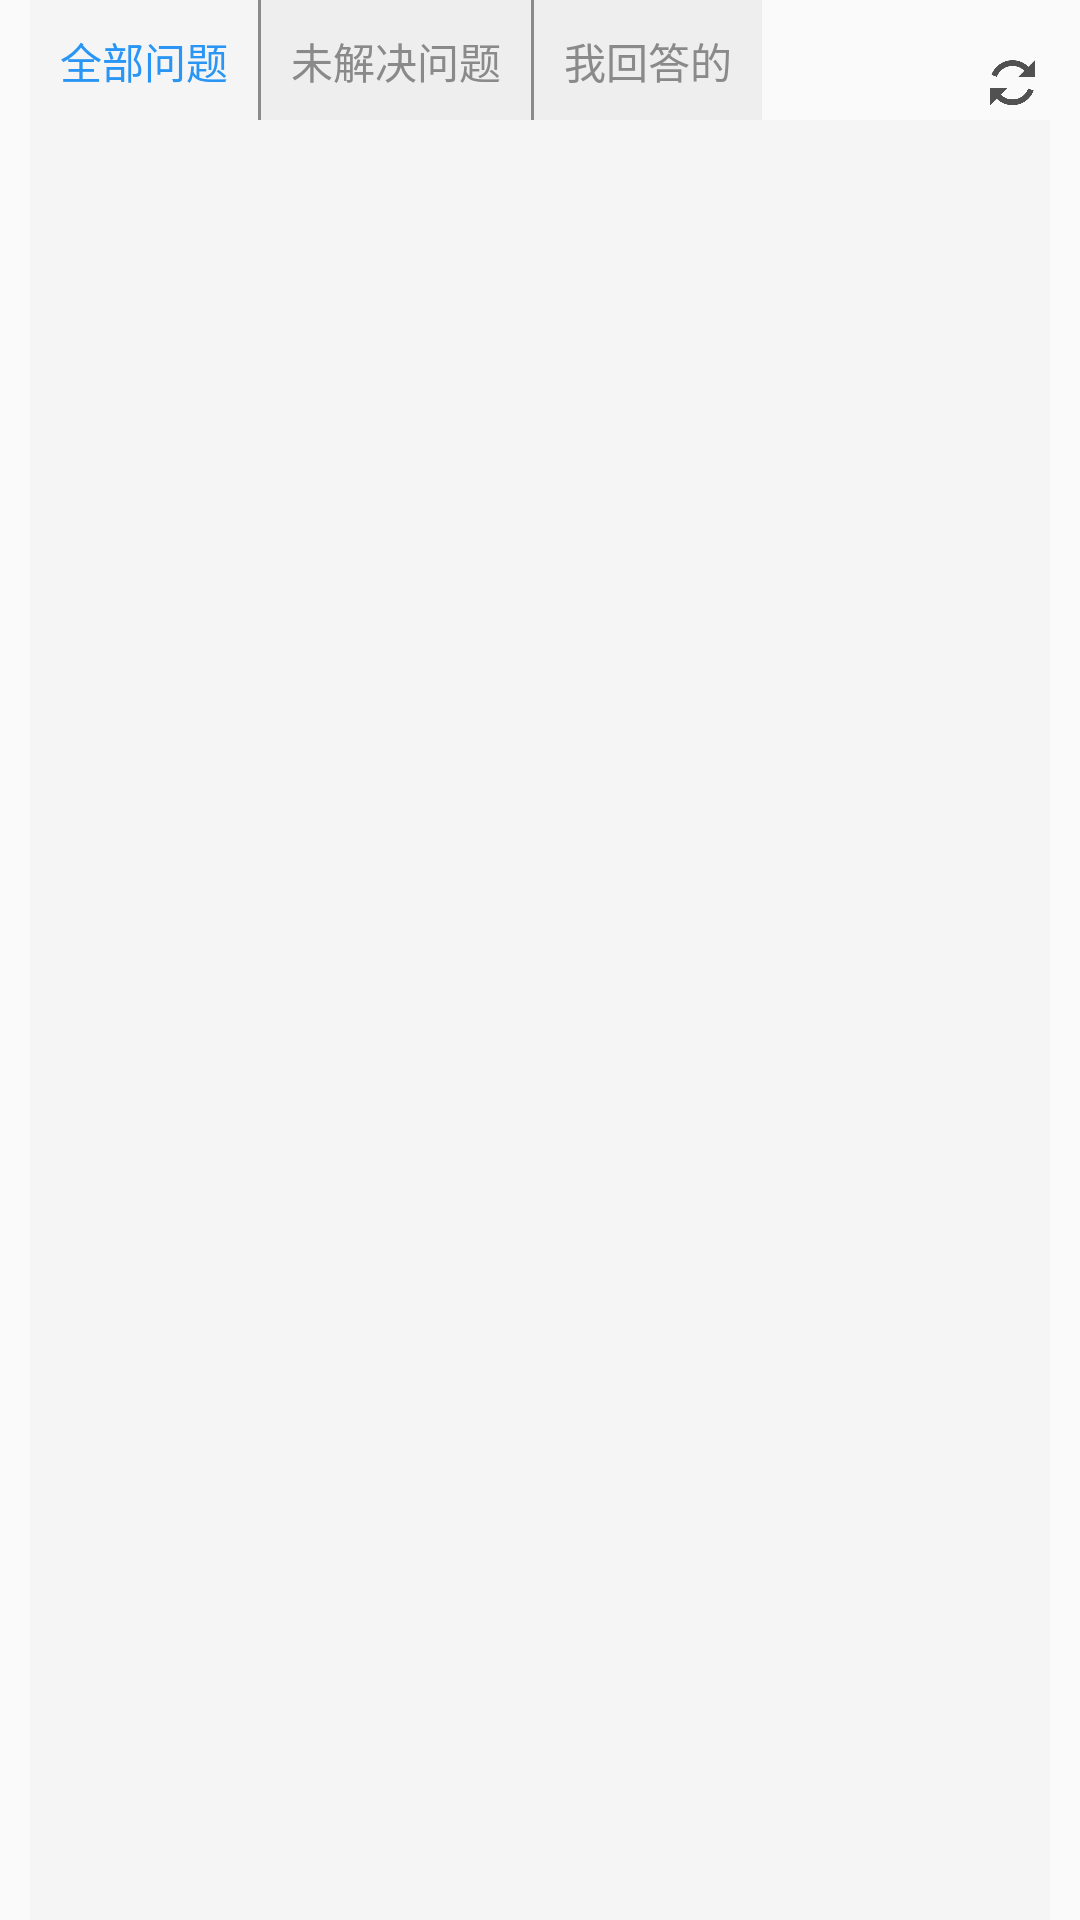

Icon bounding boxes for this 1080*1920 phone screenshot, format (x1,y1,x2,y2):
refresh: (990,60,1035,105)
